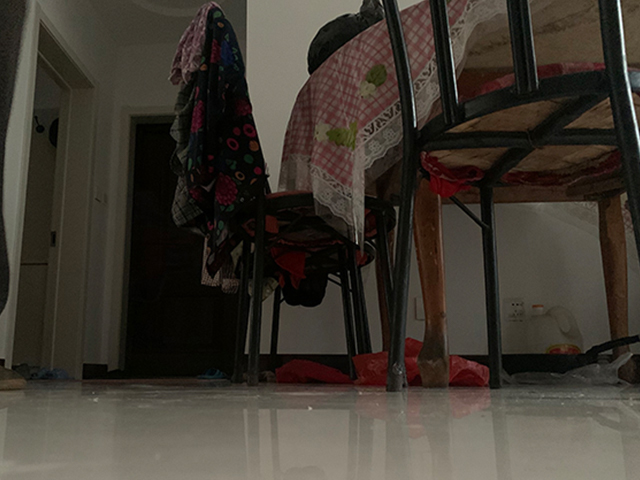slippers: (29, 365, 77, 381), (195, 367, 229, 380)
stool: (384, 1, 640, 393), (170, 1, 400, 386)
table: (278, 1, 640, 389)
